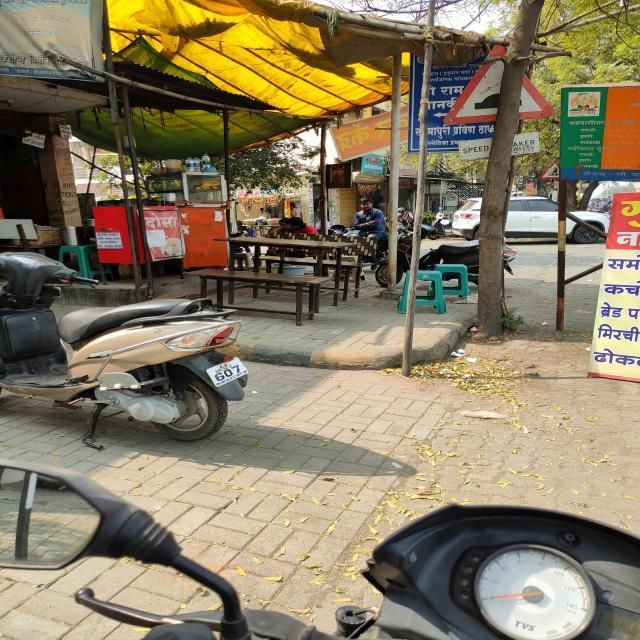hump or rough road: (440, 45, 554, 124)
